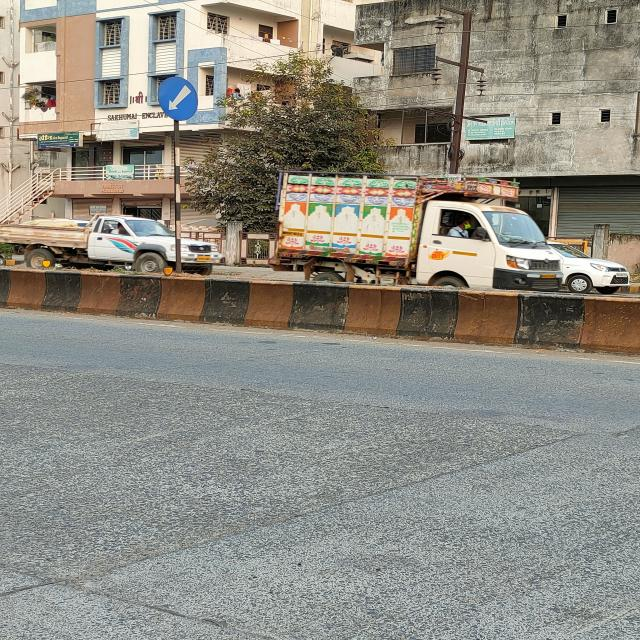COMPULSARY_KEEP_LEFT: (153, 75, 204, 123)
